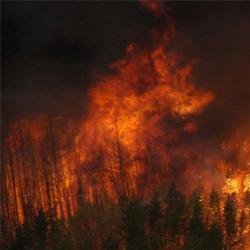fire: (96, 57, 187, 147)
